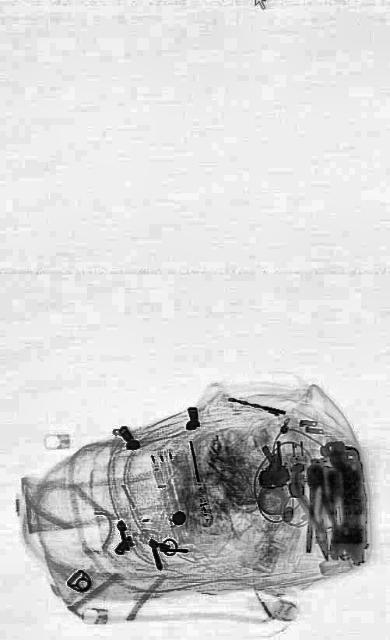Pliers: (290, 456, 342, 570), (300, 462, 342, 554)
